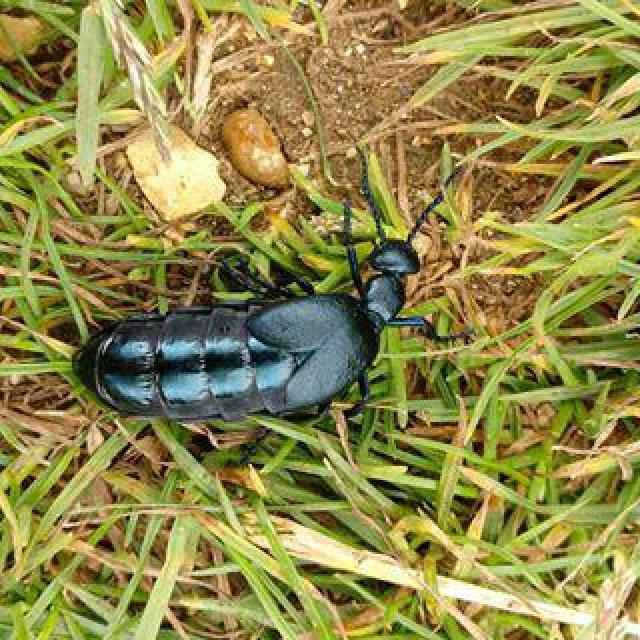BlisterBeetle-Adult-: (76, 142, 476, 426)
